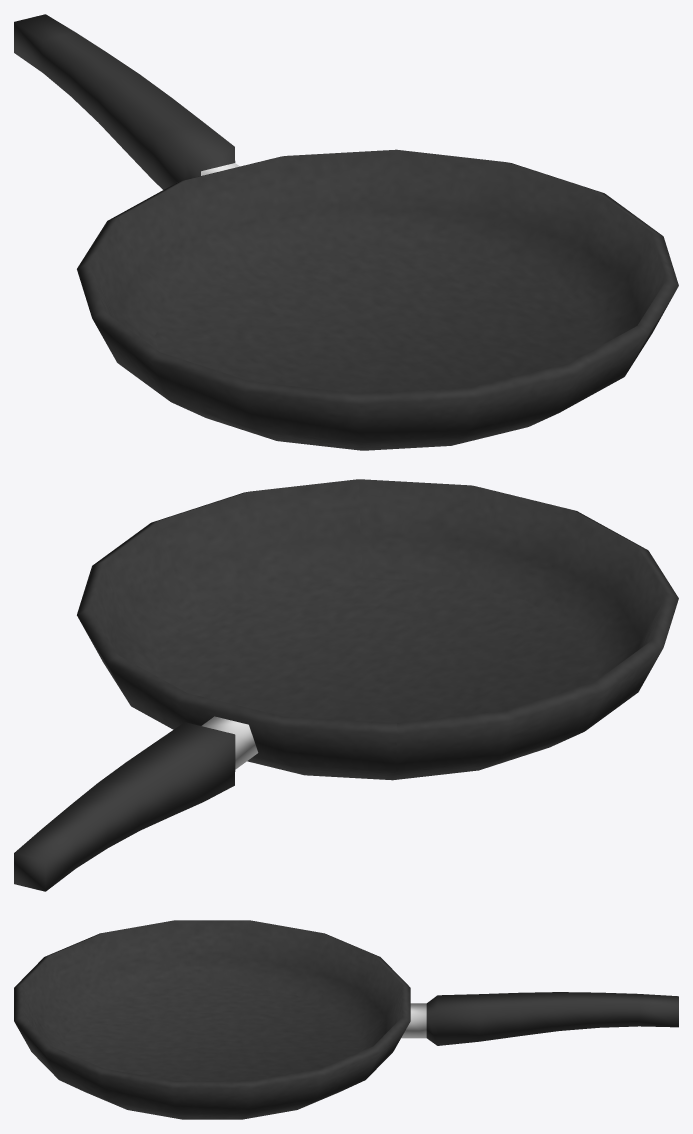
Rendered from Pan.fbx.
The picture shows the model from 3 angles, top to bottom: view 1: azimuth 30°, elevation 25°; view 2: azimuth 150°, elevation 25°; view 3: azimuth 270°, elevation 25°; orthographic projection. The views are drawn at different scales.
Visible parts, largest first — view 1: Pan; view 2: Pan; view 3: Pan.
Boxes of the visible parts, x1=… form: Pan: x1=14, y1=14, x2=678, y2=450; Pan: x1=14, y1=479, x2=678, y2=891; Pan: x1=14, y1=920, x2=678, y2=1119.
Bounding box in the file's own units: 33.2 × 5.31 × 55.65.
